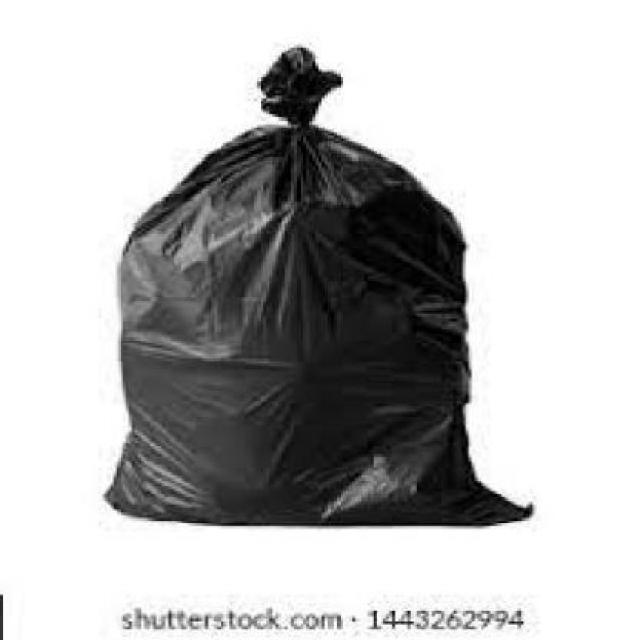garbage: (99, 40, 536, 528)
